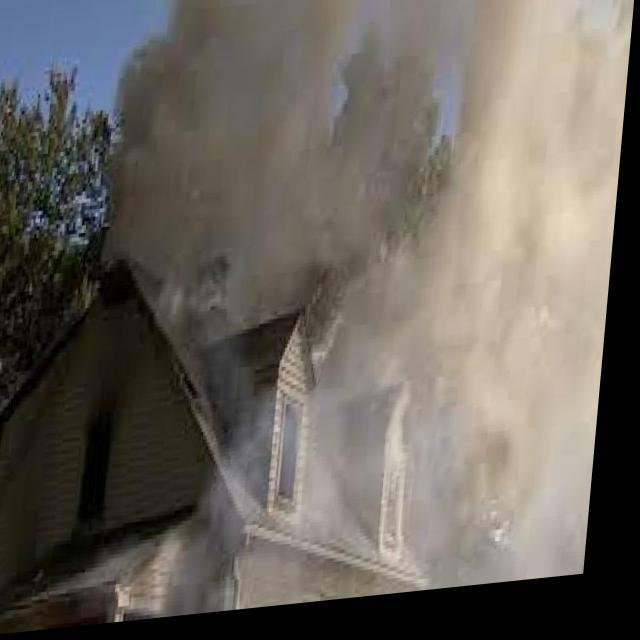Smoke: (64, 0, 640, 626)
